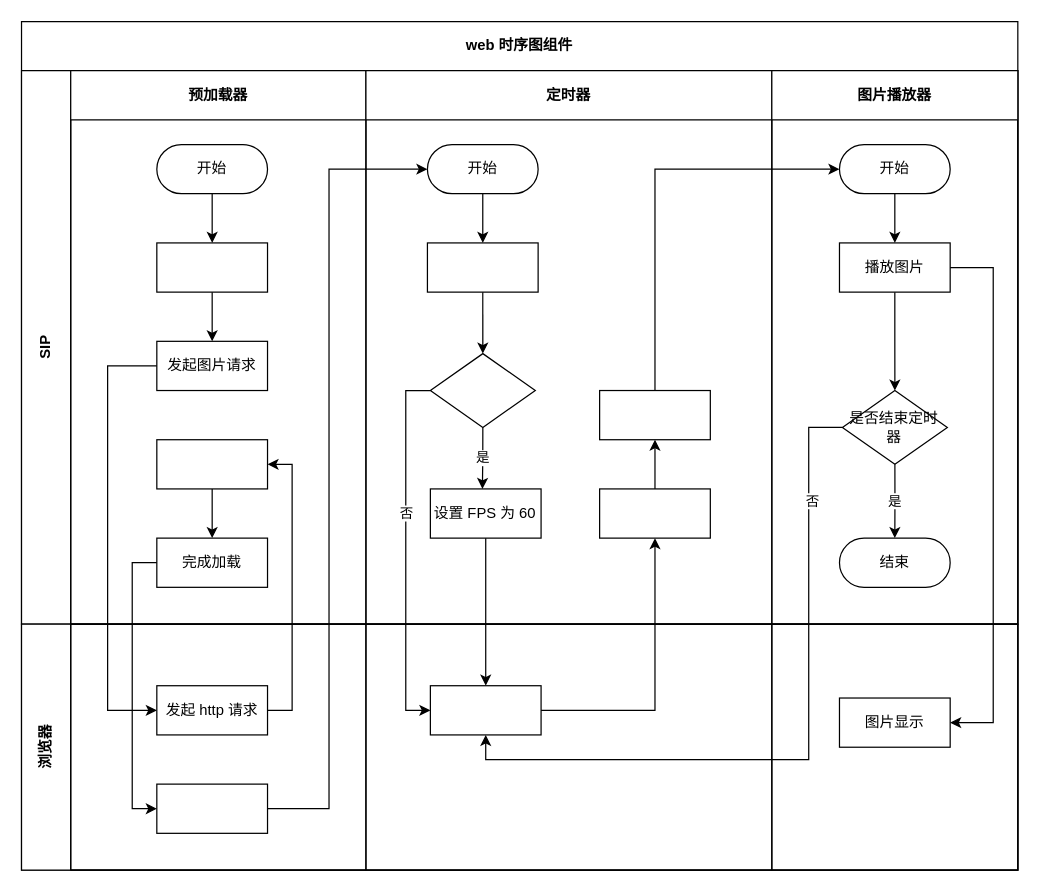
Image size: 1039x892. Some labels were removed from this diagram. Here are the shapes that lost their labels. From the top down, the centre of each, then its label:
[212,267]: 获取图片地址
[482,267]: 设置定时器回调函数，FPS 30
[482,389]: 是否低电量
[654,414]: 获取当前缓存图片
[212,463]: 处理请求响应
[654,513]: 执行回调函数
[485,709]: 定时通知
[212,808]: 缓存图片资源
